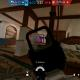Character: (39, 40, 43, 42)
